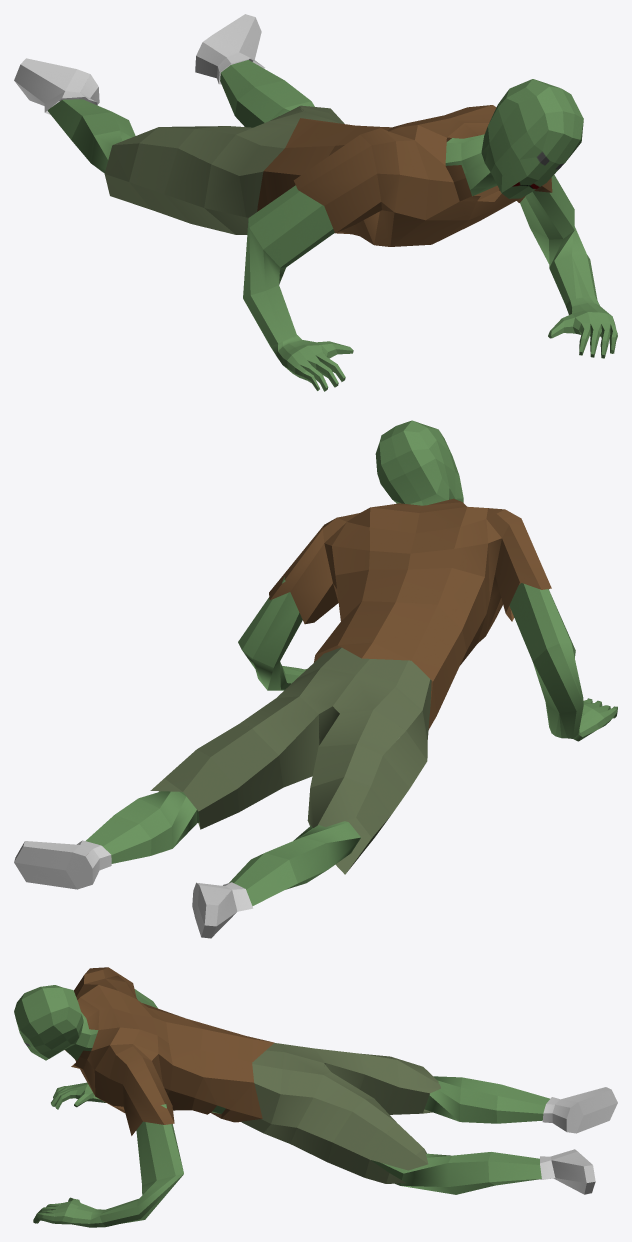
The model's file is ZombieCrawl(145).obj.
The picture shows the model from 3 angles, top to bottom: view 1: azimuth 30°, elevation 25°; view 2: azimuth 150°, elevation 25°; view 3: azimuth 270°, elevation 25°; orthographic projection. The views are drawn at different scales.
Visible parts, largest first — view 1: Object001; view 2: Object001; view 3: Object001.
Boxes of the visible parts, bbox=[...] form: Object001: bbox=[14, 14, 617, 391]; Object001: bbox=[14, 420, 617, 938]; Object001: bbox=[14, 967, 617, 1227].
Bounding box in the file's own units: 29.61 × 22.92 × 58.02.
